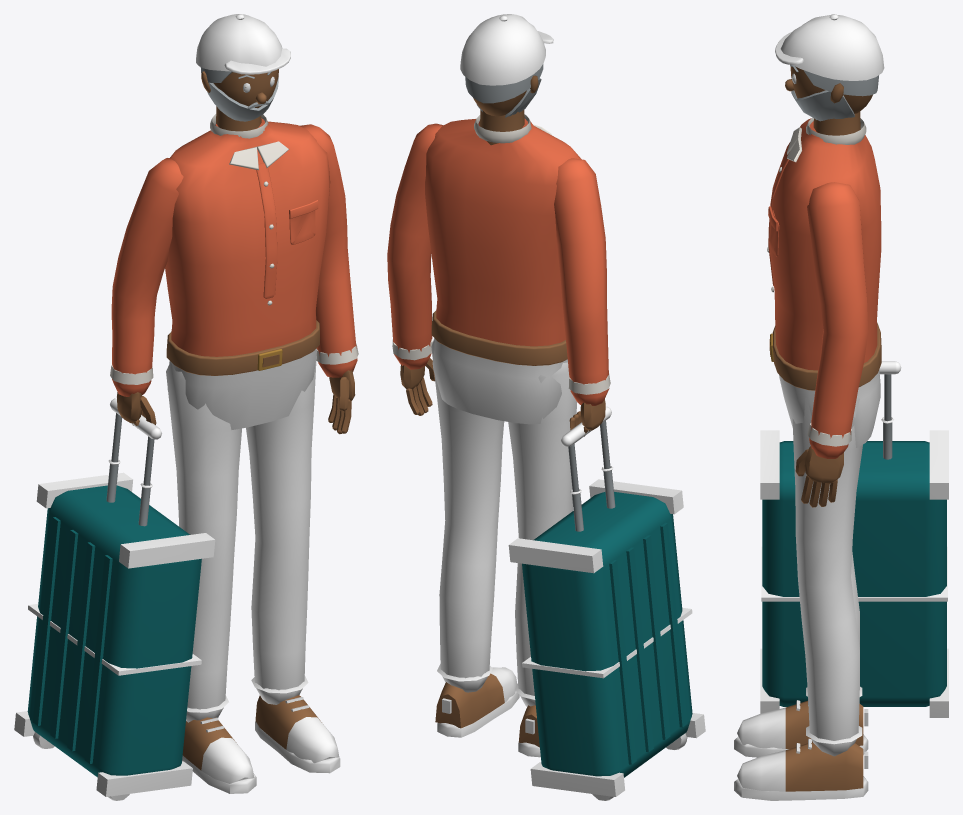
Rendered from passenger_b.fbx.
3 renders of one model, left to right at view 1: azimuth 30°, elevation 25°; view 2: azimuth 150°, elevation 25°; view 3: azimuth 270°, elevation 25°, orthographic. The views are drawn at different scales.
Parts seen in each view (by area): view 1: Body; view 2: Body; view 3: Body.
Part boxes in pixels (x1,y1,x2,y2): Body: (14,14,358,800); Body: (387,14,705,800); Body: (734,14,948,800).
Size of the model in its own units: 0.7033 by 1.74 by 0.4489.
